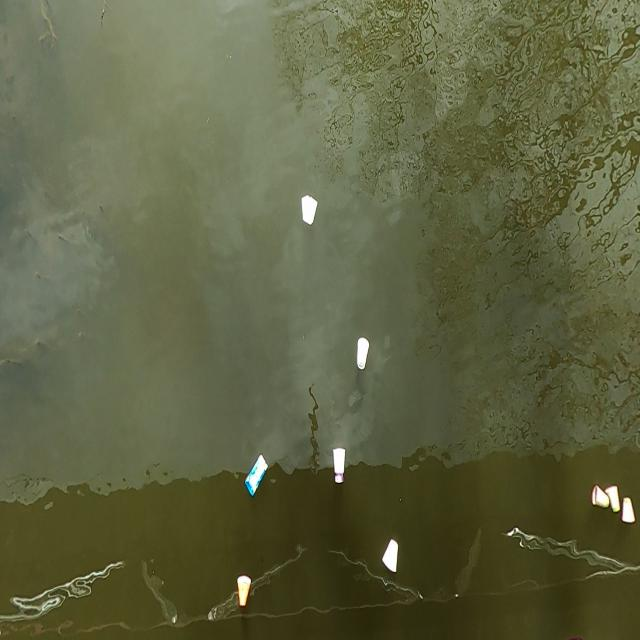Autre plastique: (243, 451, 269, 497), (380, 537, 399, 575), (302, 195, 319, 229), (591, 483, 611, 510), (334, 449, 348, 487), (237, 574, 253, 607), (606, 485, 621, 515), (357, 339, 370, 371), (621, 495, 635, 523)
